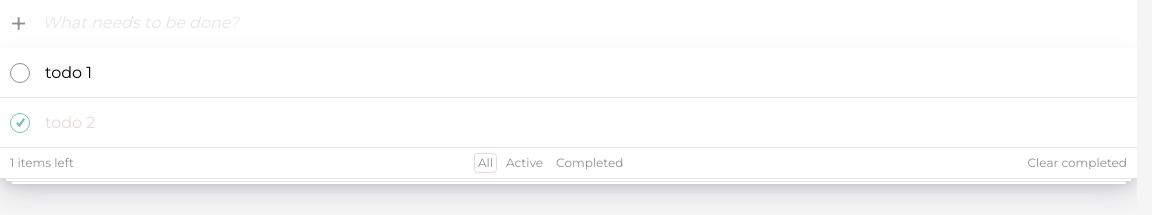
Test case: Todos Component › Filters todos
This screenshot has width=1152, height=215.
Click the button "Active" at (524,163), box [503,154,546,172]
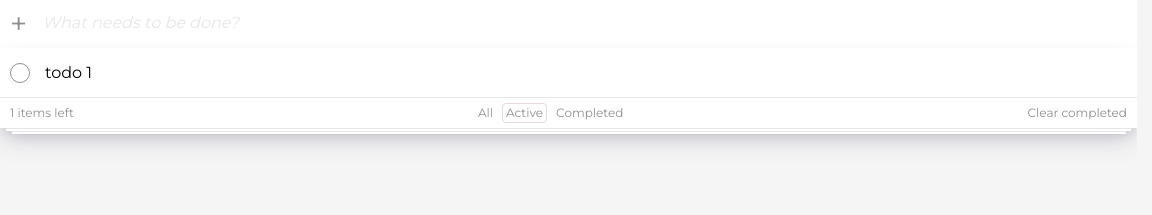
Check: the list item "todo 1" is shown, box [0,48,1137,98]
Check: the list item "todo 2" is gone
